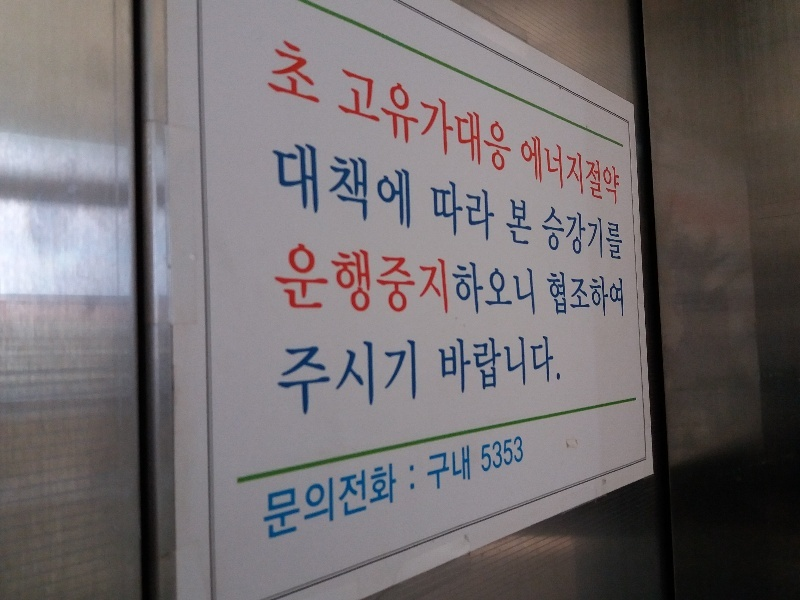text: (353, 64, 368, 179), (369, 64, 384, 179), (385, 64, 400, 179), (401, 64, 416, 179), (417, 64, 432, 179), (433, 64, 448, 179), (449, 64, 464, 179), (465, 64, 480, 179), (481, 64, 496, 179), (497, 64, 512, 179), (273, 138, 288, 232), (289, 138, 304, 232), (305, 138, 320, 232), (321, 138, 336, 232), (337, 138, 352, 232), (353, 138, 368, 232), (369, 138, 384, 232), (385, 138, 400, 232), (341, 64, 352, 179), (289, 336, 304, 419), (305, 336, 320, 419), (321, 336, 336, 419), (337, 336, 352, 419), (353, 336, 368, 419), (369, 336, 384, 419), (385, 336, 400, 419), (401, 336, 416, 419), (273, 458, 288, 541), (289, 458, 304, 541), (305, 458, 320, 541), (321, 458, 336, 541), (337, 458, 352, 541), (353, 458, 368, 541), (369, 458, 384, 541), (385, 458, 400, 541), (401, 458, 416, 541), (273, 238, 288, 319), (289, 238, 304, 319), (305, 238, 320, 319), (321, 238, 336, 319), (337, 238, 352, 319), (353, 238, 368, 319), (369, 238, 384, 319), (385, 238, 400, 319), (401, 238, 416, 319), (417, 238, 432, 319), (433, 238, 448, 319), (449, 238, 464, 319), (465, 238, 480, 319), (481, 238, 496, 319), (497, 238, 512, 319), (513, 238, 528, 319), (529, 131, 544, 206), (545, 131, 560, 206), (561, 131, 576, 206), (577, 131, 592, 206), (593, 131, 608, 206), (481, 176, 497, 244), (275, 336, 288, 419), (259, 458, 272, 541), (289, 36, 304, 107), (305, 36, 320, 107), (433, 176, 448, 244), (449, 176, 464, 244), (465, 176, 480, 244), (401, 138, 411, 232), (275, 36, 288, 107), (449, 336, 464, 396), (465, 336, 480, 396), (481, 336, 496, 396), (497, 336, 512, 396), (513, 336, 528, 396), (529, 336, 544, 396), (545, 336, 560, 396), (545, 204, 560, 261), (561, 204, 576, 261), (577, 204, 592, 261), (593, 204, 608, 261), (609, 204, 624, 261), (609, 131, 620, 206), (609, 270, 625, 319), (513, 196, 528, 246), (545, 270, 560, 319), (561, 270, 576, 319), (577, 270, 592, 319), (593, 270, 608, 319), (436, 336, 448, 396), (433, 446, 448, 493), (449, 446, 464, 493), (520, 131, 528, 206), (529, 238, 536, 319), (497, 436, 512, 473), (482, 436, 496, 473), (513, 436, 524, 473), (505, 196, 512, 246), (513, 64, 516, 179), (425, 446, 432, 493), (465, 446, 472, 493), (268, 238, 272, 319), (429, 176, 432, 244), (529, 196, 533, 246), (270, 138, 272, 232), (561, 336, 563, 396), (417, 336, 418, 419), (321, 36, 322, 107)
